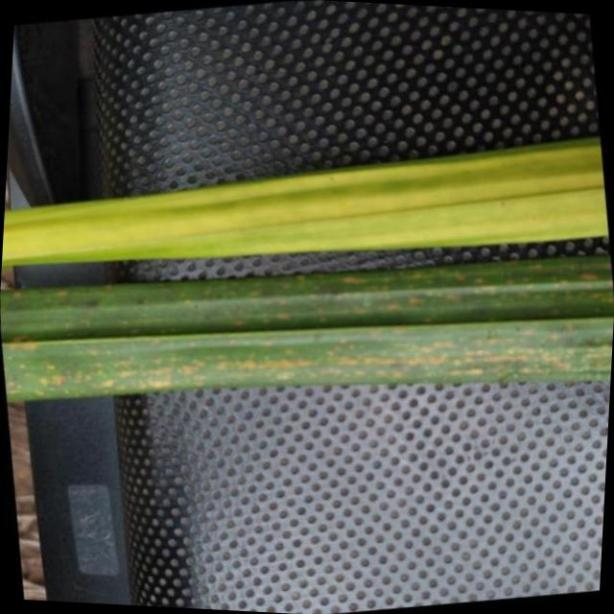nitrogen: (3, 265, 614, 404), (0, 134, 614, 269)
